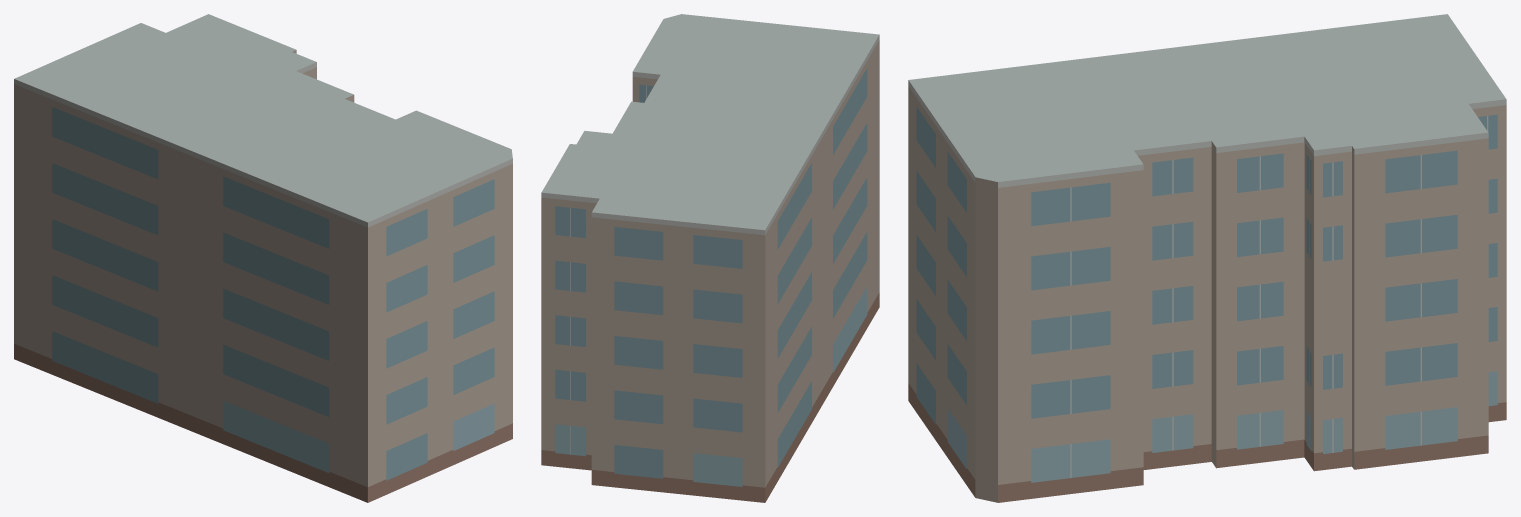
File: survey-upis-33019807.glb
3 renders of one model, left to right at view 1: azimuth 30°, elevation 25°; view 2: azimuth 150°, elevation 25°; view 3: azimuth 270°, elevation 25°, orthographic. The views are drawn at different scales.
Visible parts, largest first — view 1: survey-upis-33019807.tmp; view 2: survey-upis-33019807.tmp; view 3: survey-upis-33019807.tmp.
Boxes of the visible parts, bbox=[...] form: survey-upis-33019807.tmp: bbox=[14, 14, 512, 502]; survey-upis-33019807.tmp: bbox=[541, 14, 879, 502]; survey-upis-33019807.tmp: bbox=[908, 14, 1506, 502].
Size of the model in its own units: 15.19 by 13.5 by 22.83.
